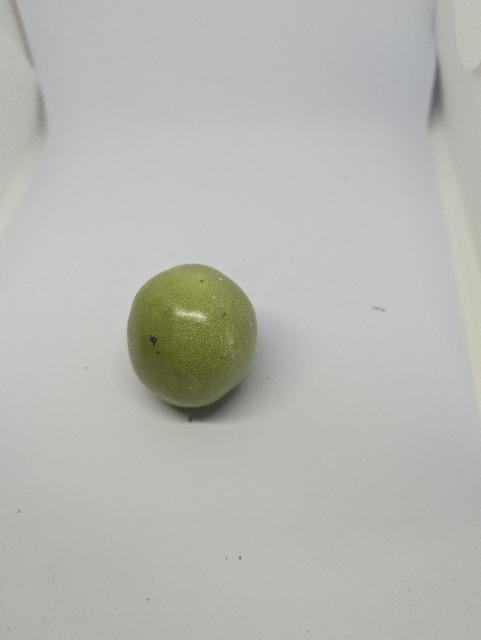green: (114, 243, 267, 424)
